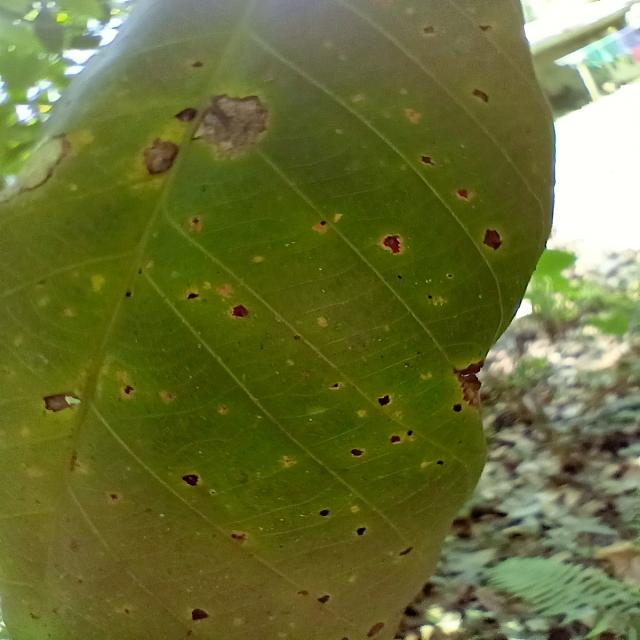Colletotrichum: (174, 106, 195, 119), (181, 474, 199, 487), (191, 608, 208, 620), (377, 394, 391, 406), (356, 526, 366, 536), (317, 594, 328, 603), (350, 448, 362, 456), (318, 509, 330, 517), (421, 155, 431, 164), (390, 436, 401, 444), (192, 61, 204, 68), (453, 403, 462, 412), (187, 293, 199, 299), (124, 290, 132, 298), (436, 460, 445, 466), (331, 382, 339, 388), (407, 429, 413, 436), (397, 274, 402, 280), (321, 220, 326, 226), (447, 274, 453, 278), (428, 295, 432, 299)
Leaf-Blight: (195, 96, 268, 160), (0, 135, 68, 202), (454, 362, 481, 408), (144, 140, 174, 174)
